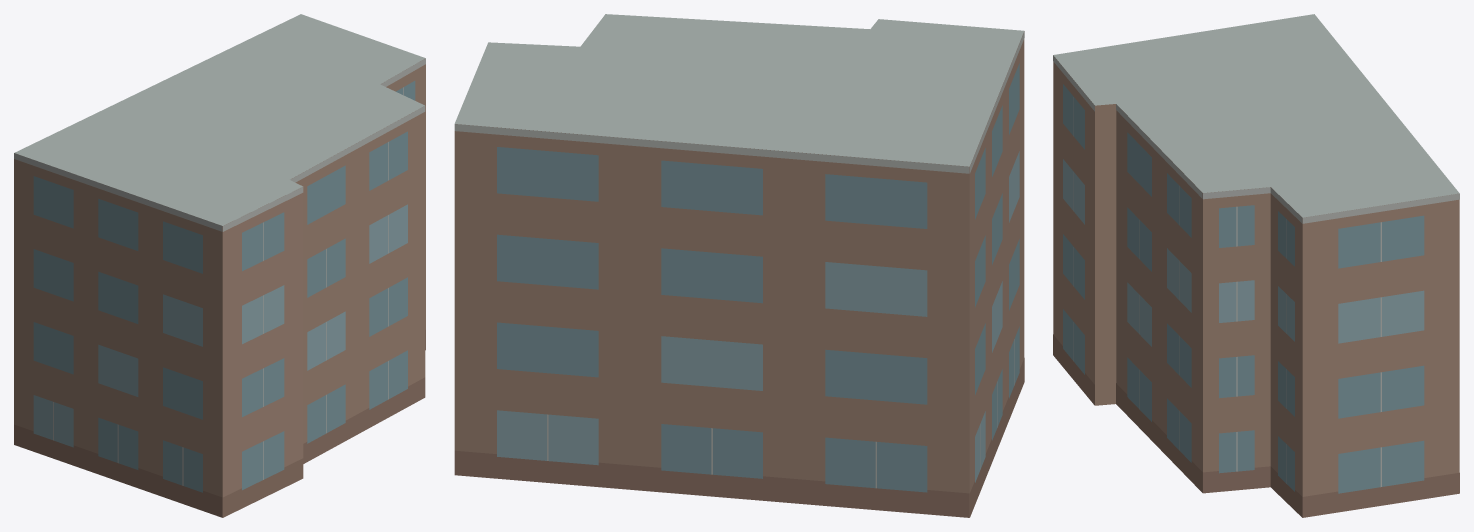
File: survey-upis-32941647.glb
3 renders of one model, left to right at view 1: azimuth 30°, elevation 25°; view 2: azimuth 150°, elevation 25°; view 3: azimuth 270°, elevation 25°, orthographic. The views are drawn at different scales.
Parts seen in each view (by area): view 1: survey-upis-32941647.tmp; view 2: survey-upis-32941647.tmp; view 3: survey-upis-32941647.tmp.
Part boxes in pixels (box(x1,y1,x2,y2)): survey-upis-32941647.tmp: box(14, 14, 425, 517); survey-upis-32941647.tmp: box(454, 14, 1024, 517); survey-upis-32941647.tmp: box(1053, 14, 1459, 517).
Size of the model in its own units: 17.33 by 11.9 by 14.62.
